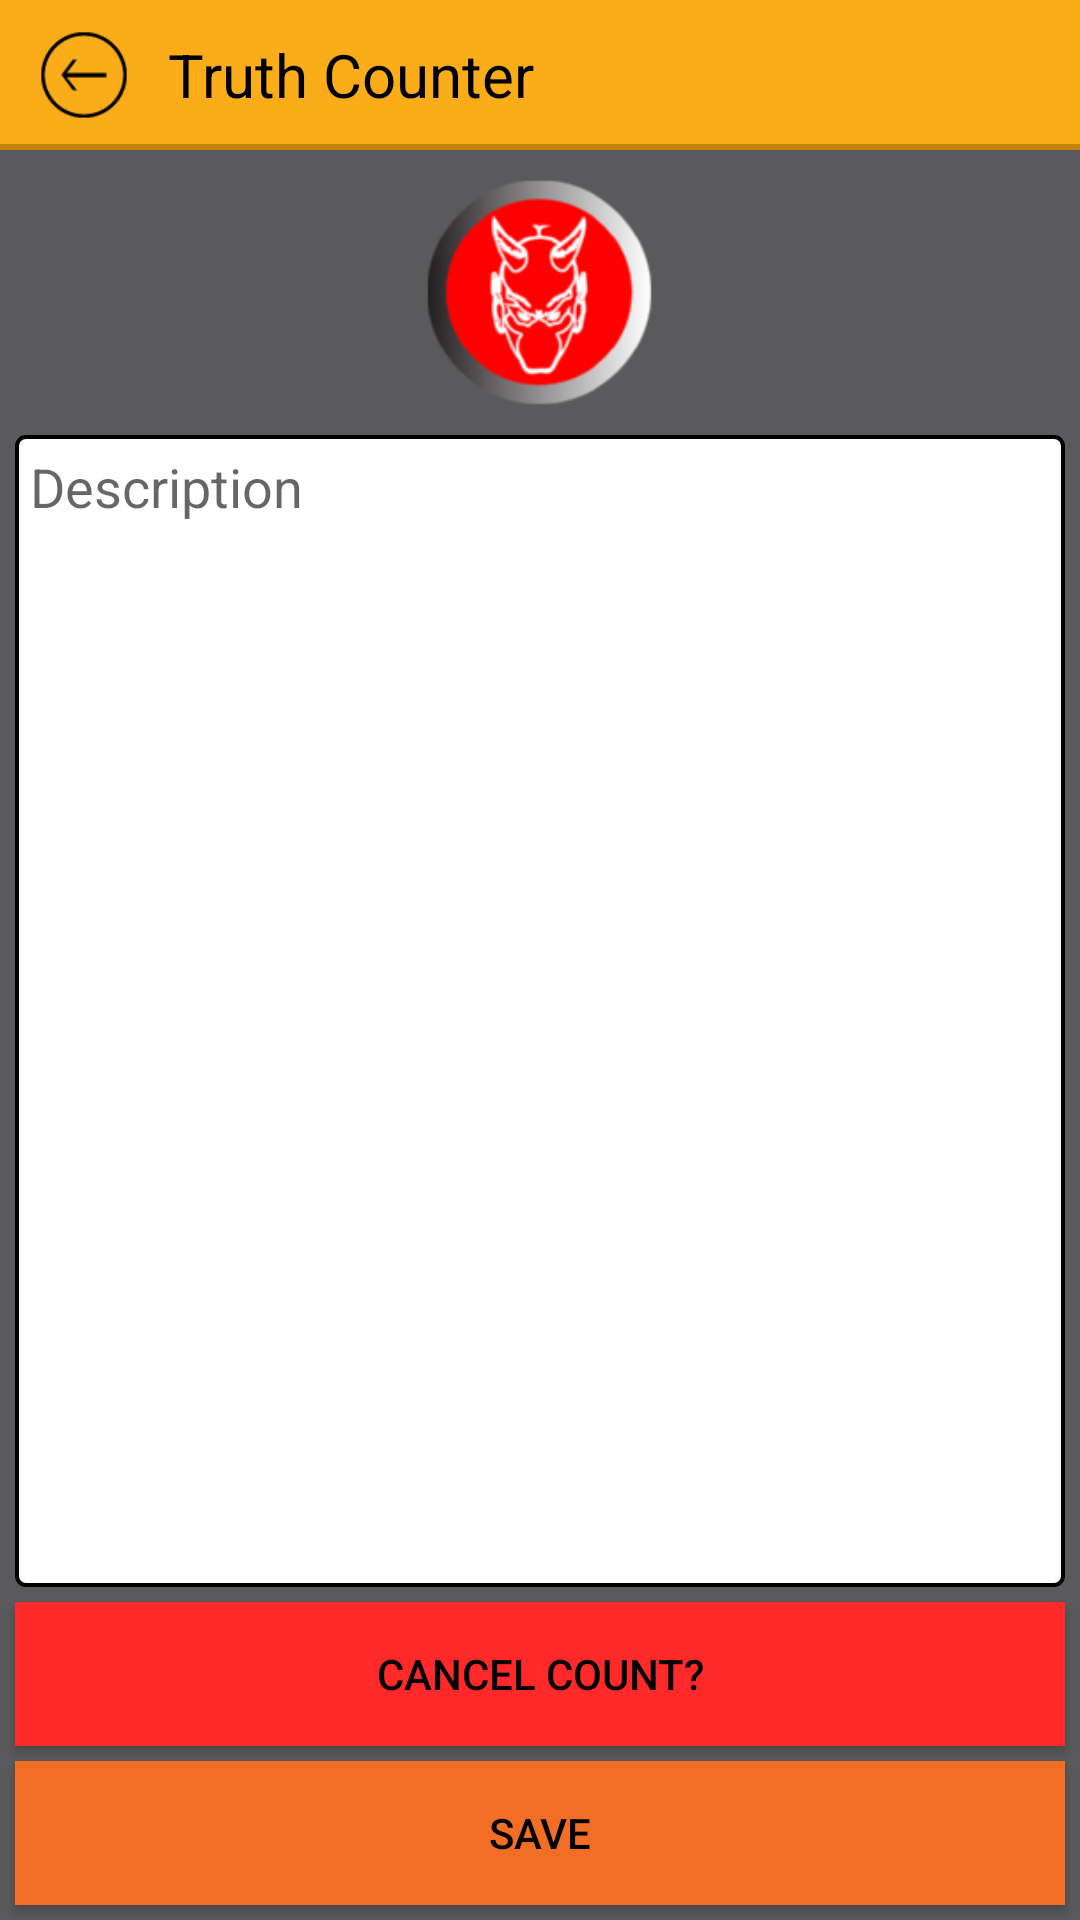

Icons on this 1080×1920 Android screen, each with the point to tap as (x,y):
back: (84,75)
bad: (540,292)
